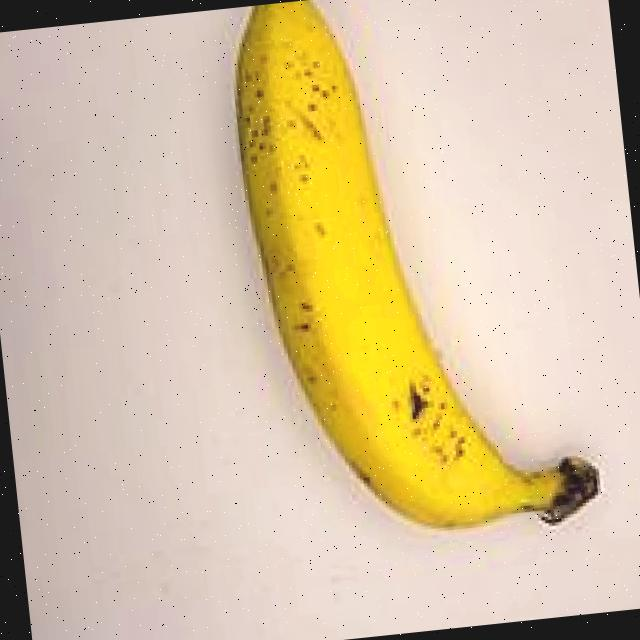Overripe: (169, 0, 640, 599)
